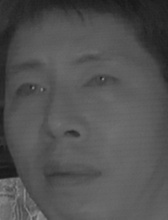eye: (82, 71, 121, 96), (11, 78, 49, 102)
mouth: (40, 156, 103, 190)
